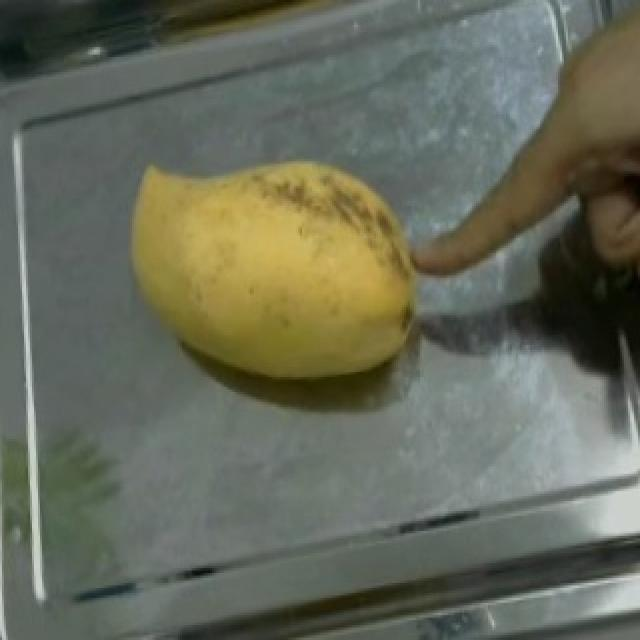fruit: (90, 109, 470, 432), (488, 0, 640, 208)
